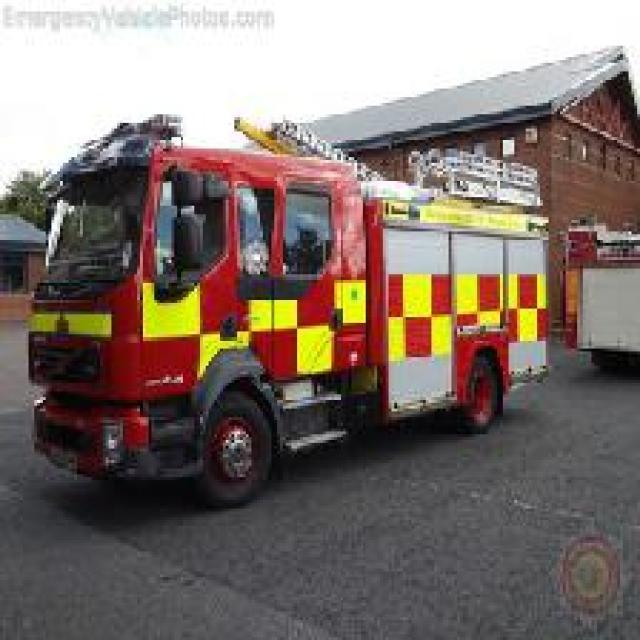emergency: (23, 110, 553, 510)
